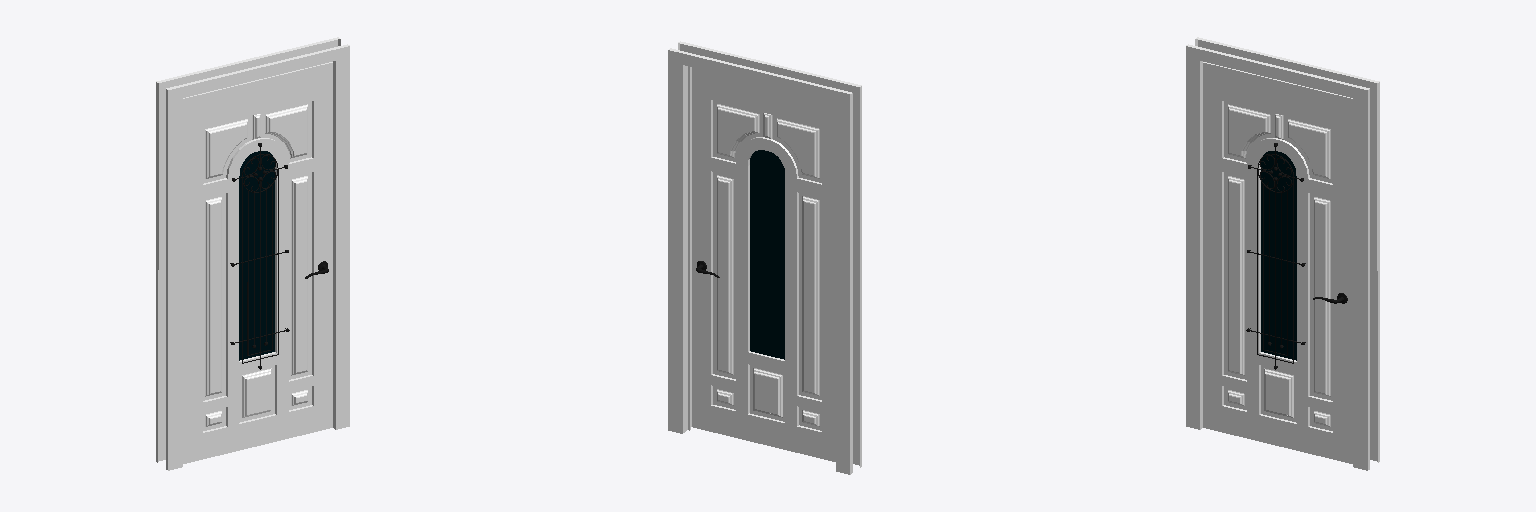
Rendered from doorVer2.obj.
3 views of the same model, side by side, from view 1: azimuth 30°, elevation 25°; view 2: azimuth 150°, elevation 25°; view 3: azimuth 330°, elevation 25° (orthographic).
Parts seen in each view (by area): view 1: Door_Standart.001; view 2: Door_Standart.001; view 3: Door_Standart.001.
Boxes of the visible parts, box(x1,y1,x2,y2) form: Door_Standart.001: box(156, 37, 349, 470); Door_Standart.001: box(668, 41, 861, 474); Door_Standart.001: box(1186, 37, 1379, 470).
Size of the model in its own units: 101 by 201 by 16.81.